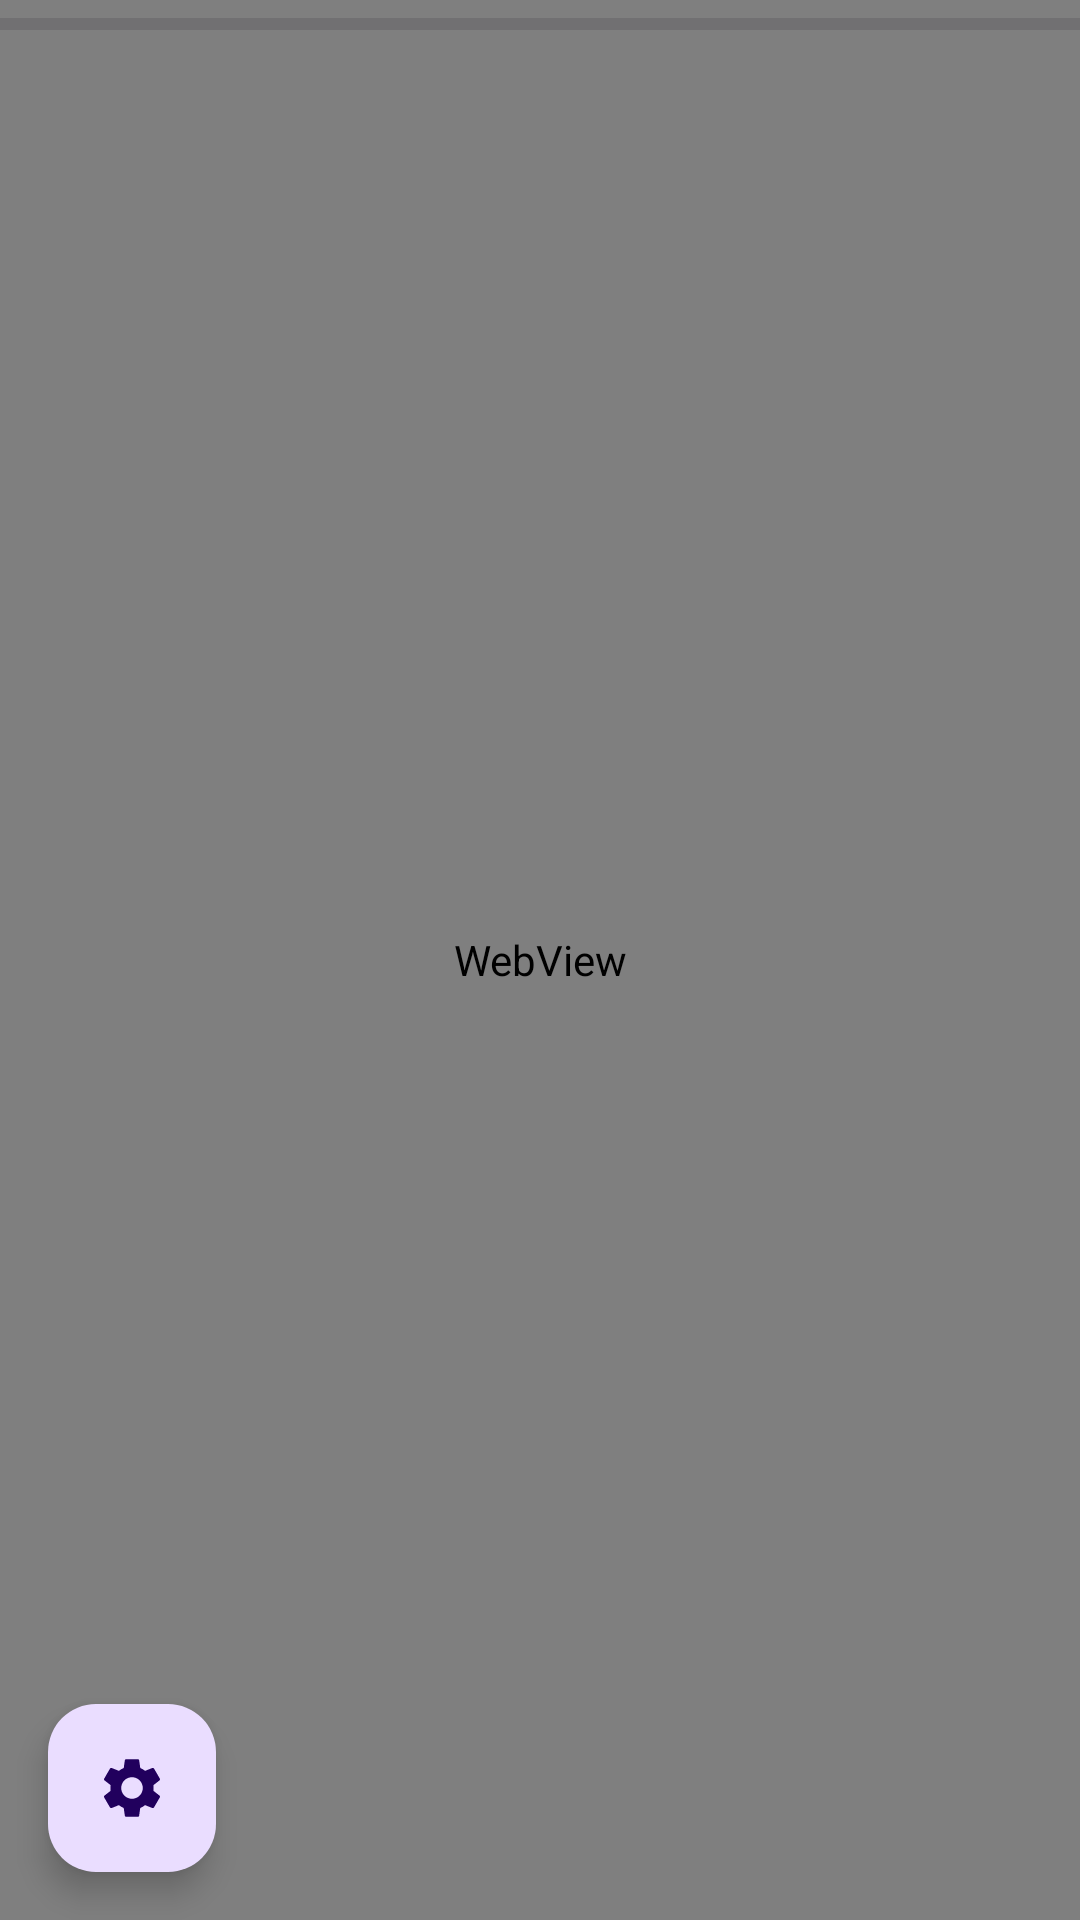

Where icons sit on this 1080x1920 app screen, as bbox(x1, y1, x2, y2):
设置: bbox(48, 1704, 216, 1872)
